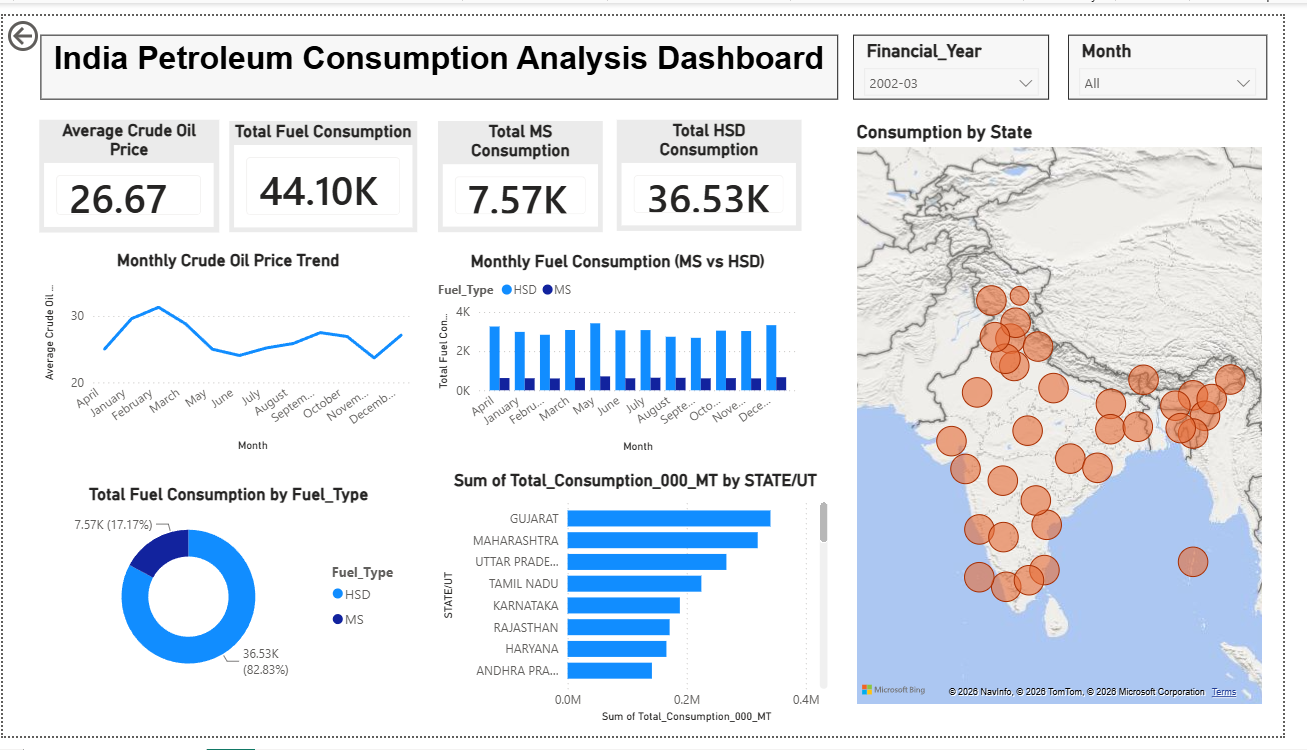

Layout of this report page (visuals, bound fields, positions):
{"tool":"powerbi","page":{"name":"Executive Overview","canvas":[1280,720],"ordinal":0},"visuals":[{"type":"textbox","box":[37,19.2,797.3,64.5],"z":0},{"type":"slicer","fields":{"Values":["Dim_Date.Financial_Year"]},"box":[849.4,19.2,196.2,64.5],"z":1000},{"type":"slicer","fields":{"Values":["Dim_Date.Month"]},"box":[1064.8,19.2,199,64.5],"z":2000},{"type":"cardVisual","title":"Average Crude Oil Price","fields":{"Data":["Crude_Oil.Average Crude Oil Price"]},"box":[36.7,103.9,179.8,112.5],"z":3000},{"type":"cardVisual","title":"Total Fuel Consumption","fields":{"Data":["Fuel_Consumption.Total Fuel Consumption"]},"box":[226.2,105.2,188.3,111.3],"z":4000},{"type":"cardVisual","title":"Total MS Consumption","fields":{"Data":["Fuel_Consumption.Total MS Consumption"]},"box":[435.3,105.2,165.1,111.3],"z":5000},{"type":"cardVisual","title":"Total HSD Consumption","fields":{"Data":["Fuel_Consumption.Total HSD Consumption"]},"box":[613.9,103.9,184.6,111.3],"z":6000},{"type":"lineChart","title":"Monthly Crude Oil Price Trend","fields":{"Y":["Crude_Oil.Average Crude Oil Price"],"Category":["Dim_Date.Month"]},"box":[36.7,233.6,377.9,206.7],"z":7000},{"type":"clusteredColumnChart","title":"Monthly Fuel Consumption (MS vs HSD)","fields":{"Y":["Fuel_Consumption.Total Fuel Consumption"],"Series":["Fuel_Consumption.Fuel_Type"],"Category":["Dim_Date.Month"]},"box":[430,235,368.8,206.2],"z":8000},{"type":"map","title":"Consumption by State","fields":{"Category":["Statewise_Consumption.STATE/UT"],"Size":["Statewise_Consumption.Test Rows"]},"box":[848.6,105.2,414.5,588.2],"z":9000},{"type":"donutChart","fields":{"Category":["Fuel_Consumption.Fuel_Type"],"Y":["Fuel_Consumption.Total Fuel Consumption"]},"box":[37.5,467.5,376.2,207.5],"z":10000},{"type":"actionButton","box":[0,0,100,40],"z":11000},{"type":"clusteredBarChart","fields":{"Category":["Statewise_Consumption.STATE/UT"],"Y":["Sum(Statewise_Consumption.Total_Consumption_000_MT)"]},"box":[435.3,453.7,395,258],"z":12000}]}

Visuals, with their boxes in screenshot pixels (x1, y1, x2, y2), scaled from the page's 1280x720 canvas onto the 1307x750 screenshot:
textbox: 38:20:852:87
slicer - Dim_Date.Financial_Year: 867:20:1068:87
slicer - Dim_Date.Month: 1087:20:1290:87
"Average Crude Oil Price" cardVisual: 37:108:221:225
"Total Fuel Consumption" cardVisual: 231:110:423:226
"Total MS Consumption" cardVisual: 444:110:613:226
"Total HSD Consumption" cardVisual: 627:108:815:224
"Monthly Crude Oil Price Trend" lineChart: 37:243:423:459
"Monthly Fuel Consumption (MS vs HSD)" clusteredColumnChart: 439:245:816:460
"Consumption by State" map: 867:110:1290:722
donutChart - Fuel_Consumption.Fuel_Type x Fuel_Consumption.Total Fuel Consumption: 38:487:422:703
actionButton: 0:0:102:42
clusteredBarChart - Statewise_Consumption.STATE/UT x Sum(Statewise_Consumption.Total_Consumption_000_MT): 444:473:848:741
